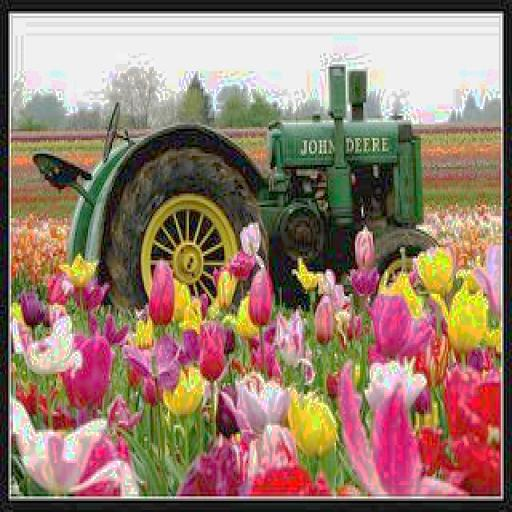tulip: (67, 334, 115, 410), (370, 294, 411, 356), (148, 258, 174, 327), (196, 322, 226, 380), (248, 267, 274, 330), (315, 294, 338, 345)
